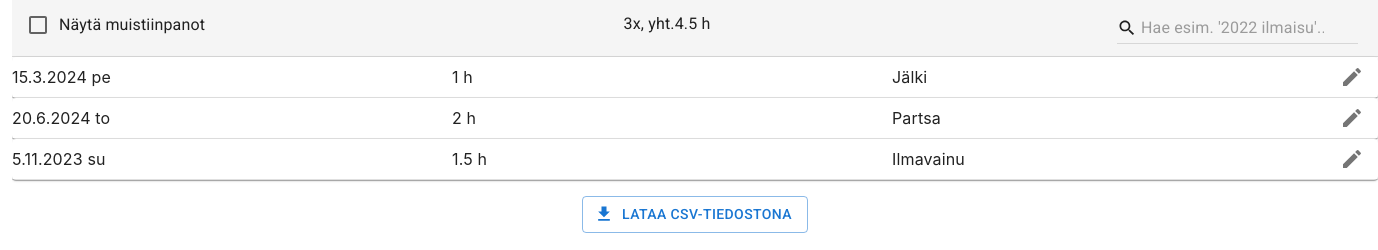
Reenit — hakusuodatus › tyhjentää haun tyhjennysnapista
This screenshot has width=1378, height=250.
Type "Partsa" into the field with placeholder "Hae esim. '2022 ilmaisu'..." at point(1232, 28), box left=1141, top=12, right=1324, bottom=44
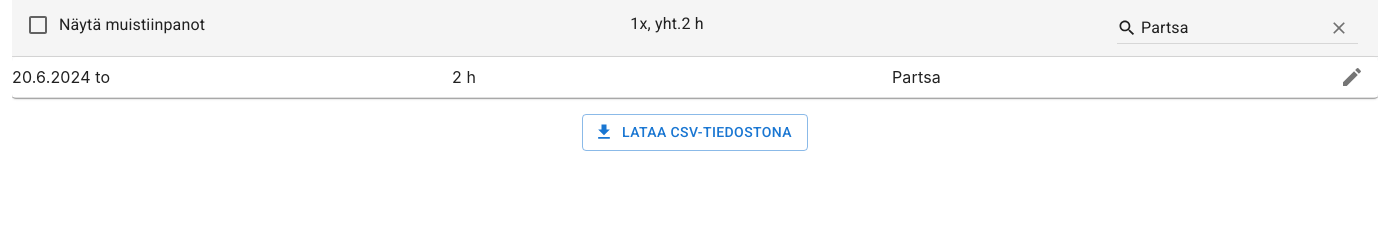
Expected: the text "Partsa" is shown, left=892, top=67, right=941, bottom=87
Expected: the text "Jälki" is gone
Click the button named "clear" at point(1341, 28), box left=1324, top=13, right=1358, bottom=43
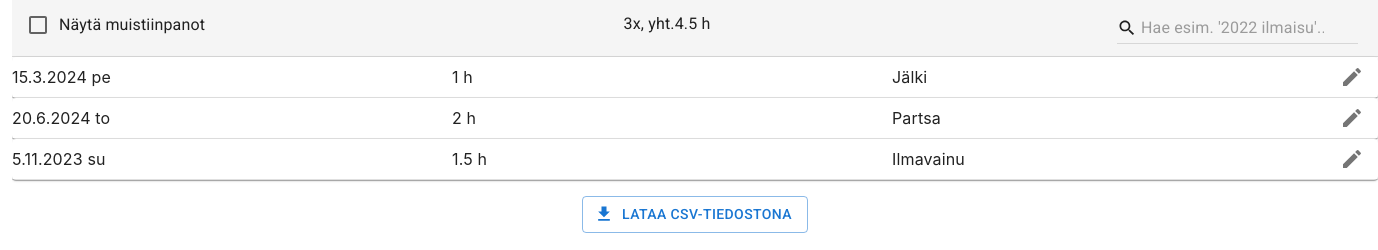
Expected: the text "Partsa" is shown, left=892, top=108, right=941, bottom=128
Expected: the text "Jälki" is shown, left=892, top=67, right=927, bottom=87
Expected: the text "Ilmavainu" is shown, left=892, top=149, right=965, bottom=169
